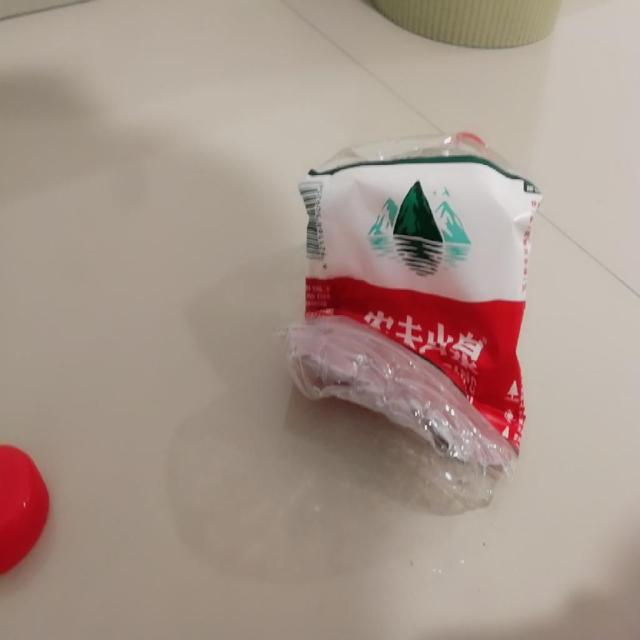-Recyclables - plastic bottle-: (286, 125, 543, 515)
